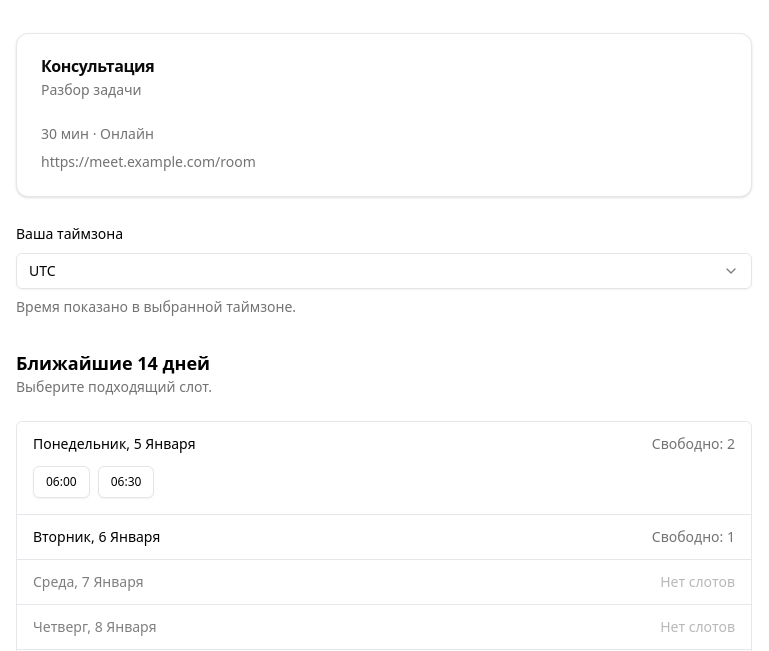
PublicBookingPage › lets the guest select a slot
The width and height of the screenshot is (769, 651).
Click the button "06:00": (61, 482) [33,466,90,498]
(page scrolled)
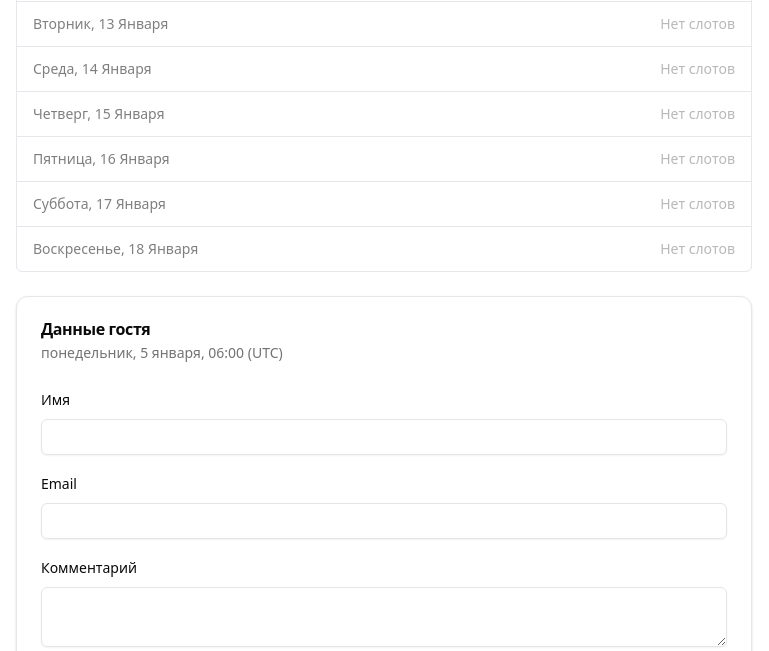
Expected: the text "Данные гостя" is shown, [41,318,150,340]
Expected: the text "понедельник, 5 января, 06:00 (UTC)" is shown, [41,343,283,362]
